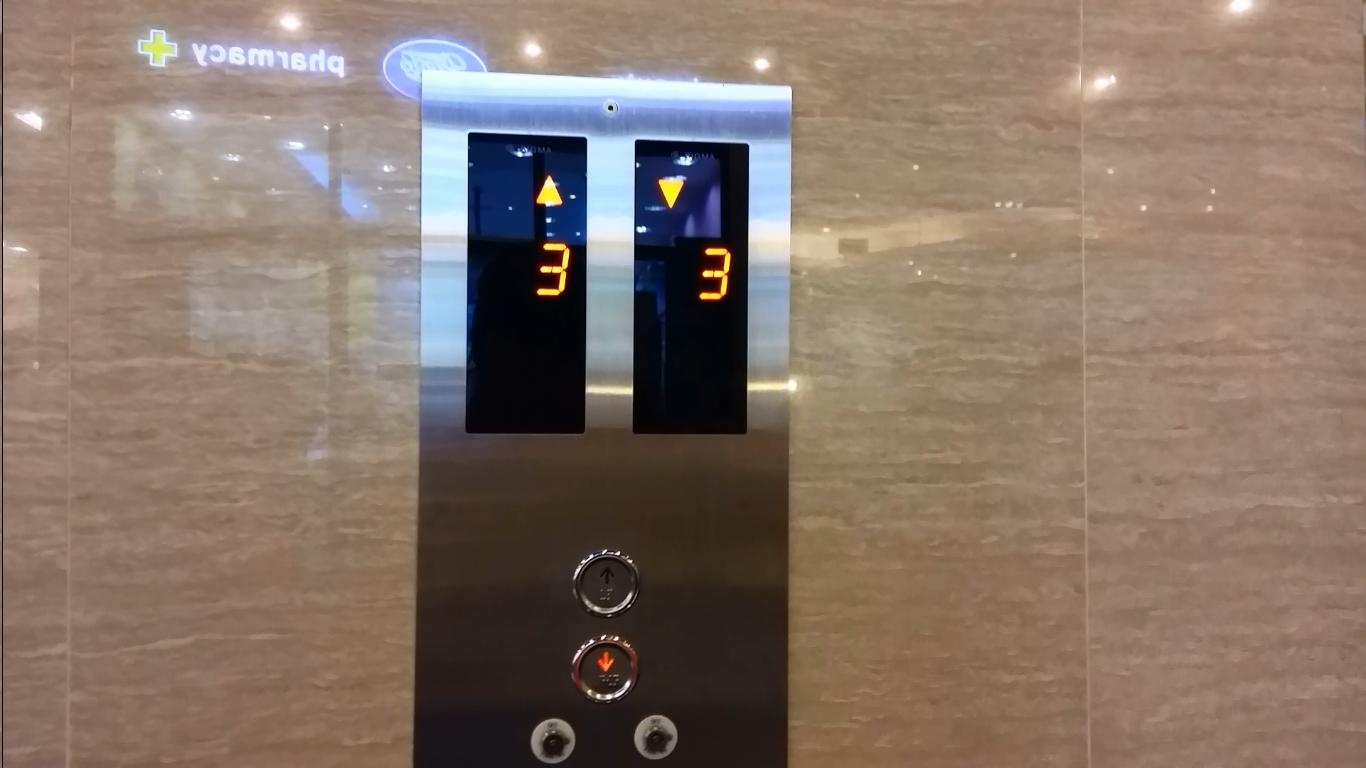down: (572, 633, 637, 701)
keyhole: (530, 718, 575, 764), (632, 714, 678, 759)
led: (464, 128, 593, 437), (631, 137, 750, 435)
up: (571, 549, 640, 619)
